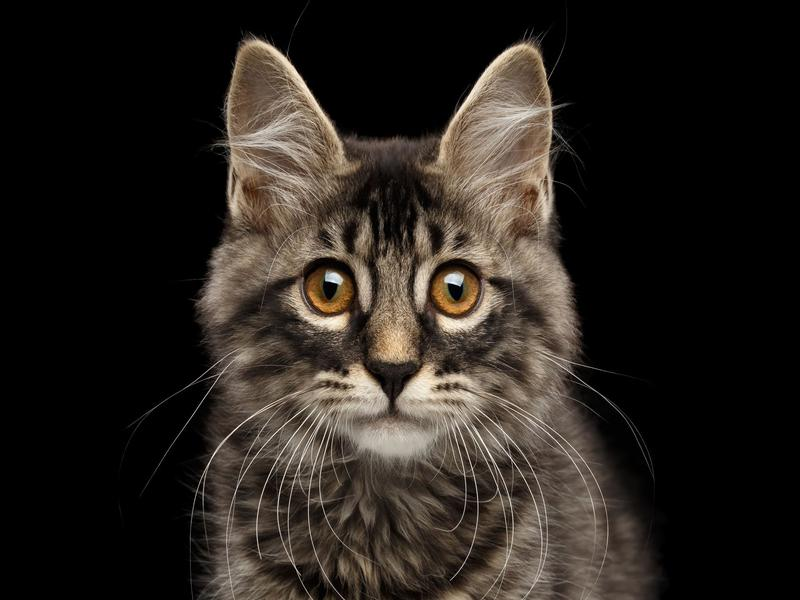cat: (115, 24, 685, 598)
